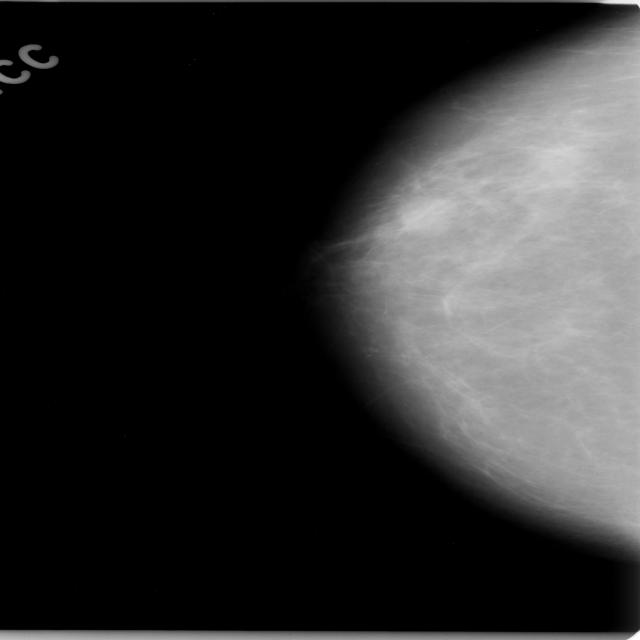normal: (325, 12, 640, 526)
